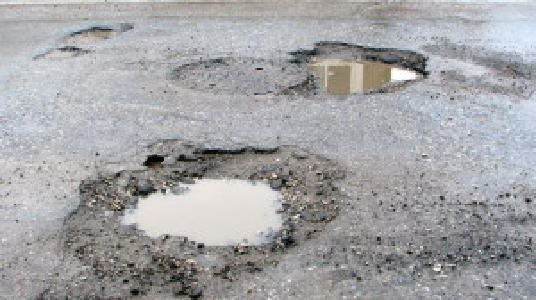pothole: (59, 139, 346, 300), (275, 37, 432, 98), (66, 20, 134, 46), (33, 45, 91, 63)
